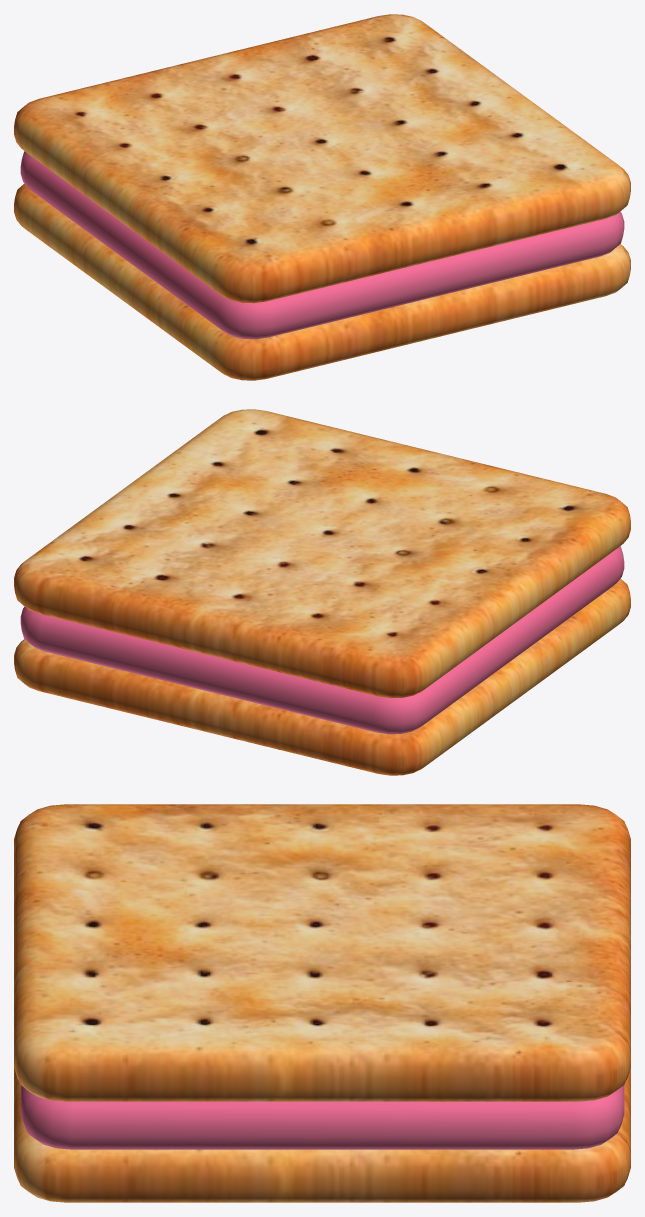
File: candy_waf_27.fbx
3 renders of one model, top to bottom at view 1: azimuth 30°, elevation 25°; view 2: azimuth 150°, elevation 25°; view 3: azimuth 270°, elevation 25°, orthographic. The views are drawn at different scales.
Visible parts, largest first — view 1: c_w_27; view 2: c_w_27; view 3: c_w_27.
Boxes of the visible parts, x1,y1,x2,y2 form: c_w_27: (14,14,630,380); c_w_27: (14,409,630,775); c_w_27: (14,804,630,1202).
Bounding box in the file's own units: 179 × 49.02 × 179.
